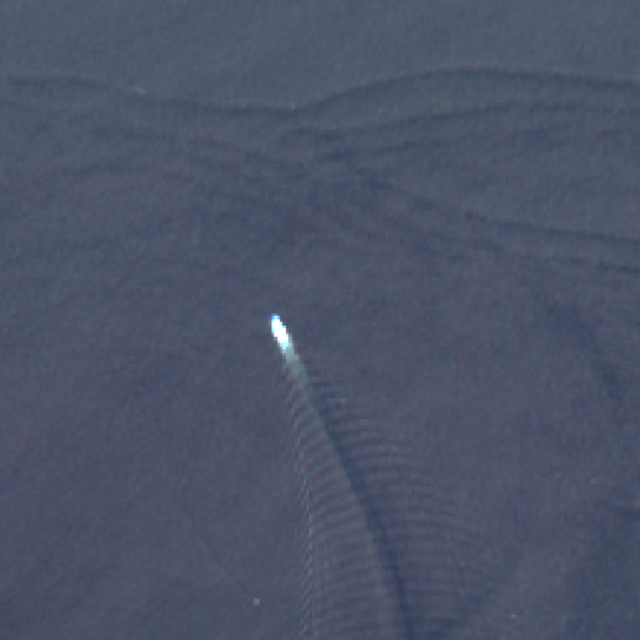wake: (189, 263, 448, 556)
